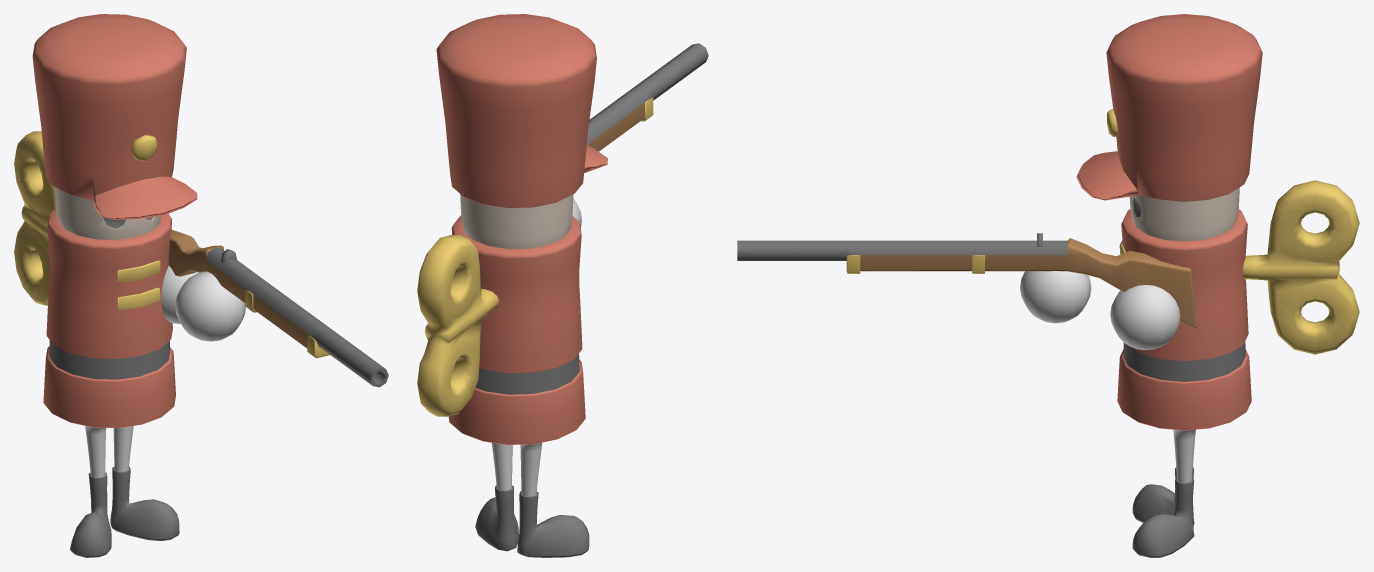
Rendered from soldier gun kari.fbx.
3 views of the same model, side by side, from view 1: azimuth 30°, elevation 25°; view 2: azimuth 150°, elevation 25°; view 3: azimuth 270°, elevation 25° (orthographic). The views are drawn at different scales.
Parts seen in each view (by area): view 1: pCylinder14, pCylinder16, pTorus5, pSphere6, pSphere8; view 2: pCylinder14, pTorus5, pCylinder16; view 3: pCylinder14, pCylinder16, pTorus5, pSphere8, pSphere6.
Part boxes in pixels (x1,y1,x2,y2): pCylinder14: (32, 14, 197, 557); pCylinder16: (168, 229, 388, 387); pTorus5: (14, 131, 55, 305); pSphere6: (175, 271, 245, 341); pSphere8: (161, 265, 198, 324); pCylinder14: (436, 14, 607, 557); pTorus5: (417, 235, 499, 416); pCylinder16: (586, 43, 708, 151); pCylinder14: (1076, 14, 1262, 557); pCylinder16: (737, 233, 1196, 328); pTorus5: (1242, 180, 1359, 354); pSphere8: (1110, 285, 1180, 350); pSphere6: (1020, 271, 1091, 323).
Size of the model in its own units: 7.33 by 23.17 by 26.15.
